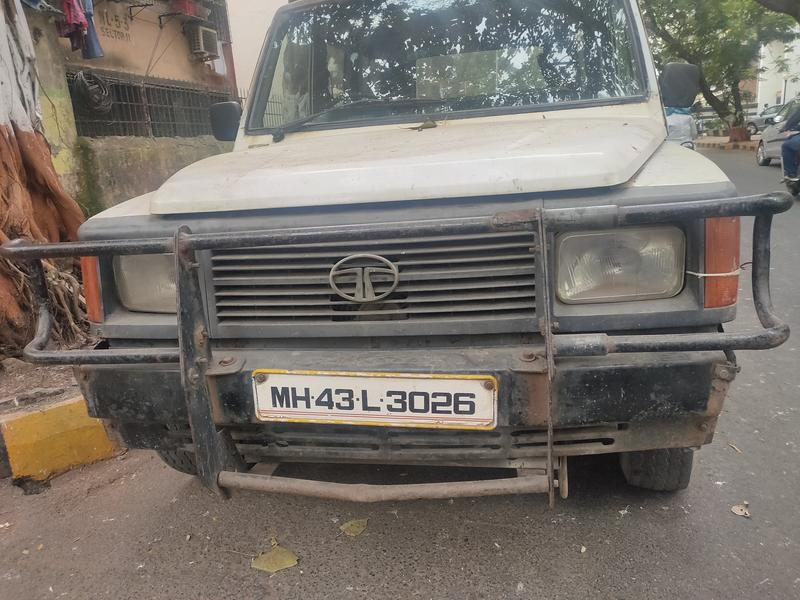license_plate: (249, 357, 505, 446)
